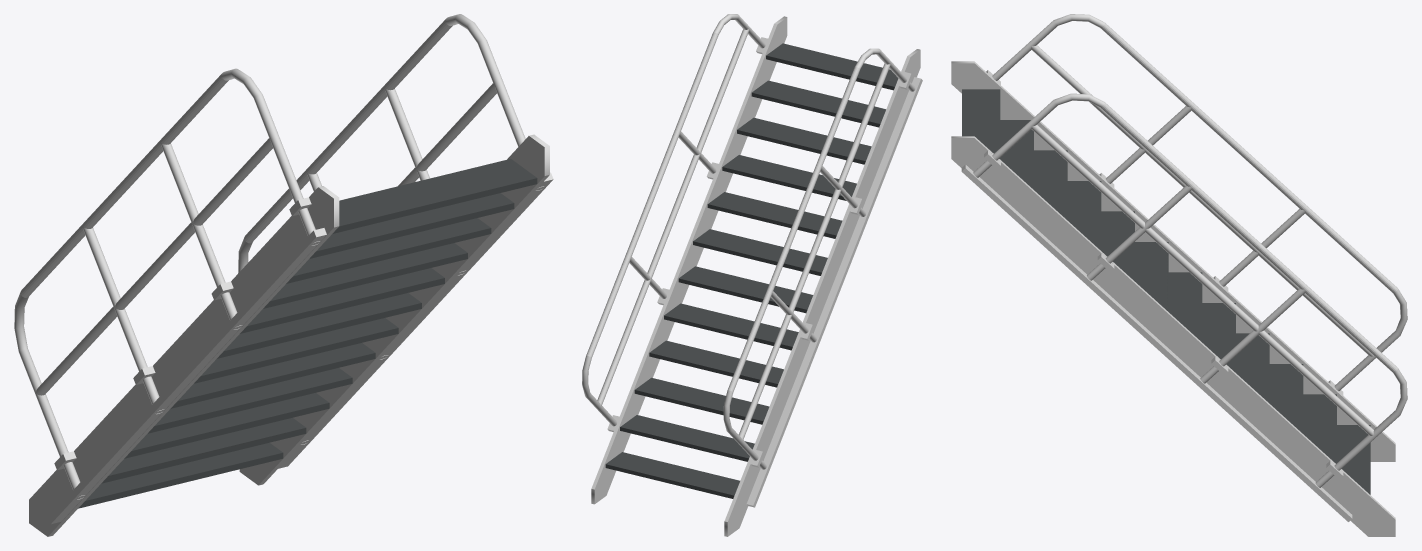
Rendered from ExportedFBXFile.fbx.
3 views of the same model, side by side, from view 1: azimuth 30°, elevation 25°; view 2: azimuth 150°, elevation 25°; view 3: azimuth 270°, elevation 25° (orthographic). The views are drawn at different scales.
Parts seen in each view (by area): view 1: polySurface4; view 2: polySurface4; view 3: polySurface4.
Boxes of the visible parts, bbox=[...] form: polySurface4: bbox=[14, 14, 553, 536]; polySurface4: bbox=[582, 14, 922, 536]; polySurface4: bbox=[951, 14, 1407, 536].
Size of what is drawn, in the model's own units: 41.51 by 102 by 94.93.
